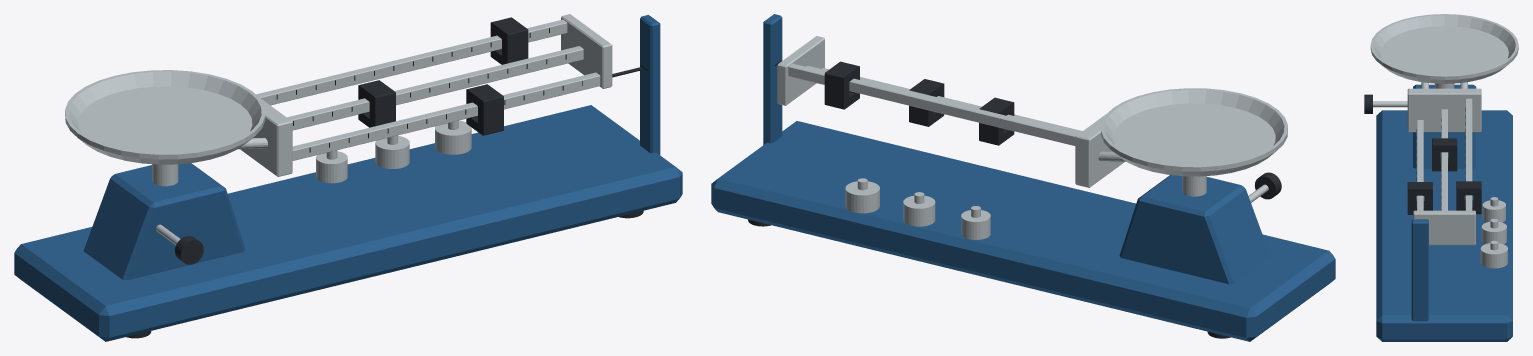
The model's file is full.fbx.
3 renders of one model, left to right at view 1: azimuth 30°, elevation 25°; view 2: azimuth 150°, elevation 25°; view 3: azimuth 270°, elevation 25°, orthographic. The views are drawn at different scales.
Visible parts, largest first — view 1: Long low cast base, Shallow open 152mm pan, Raised pan pedestal, Independent graduated beam 0, Independent graduated beam 2, Independent graduated beam 1, Fixed reference upright, Beam end tie, Common beam root, Sliding rider 0, Sliding rider 2, Sliding rider 1 (+5 smaller); view 2: Long low cast base, Shallow open 152mm pan, Raised pan pedestal, Independent graduated beam 2, Fixed reference upright, Common beam root, Beam end tie, Sliding rider 2, Sliding rider 1, Stored auxiliary weight 2, Sliding rider 0, Stored auxiliary weight 1 (+4 smaller); view 3: Long low cast base, Shallow open 152mm pan, Common beam root, Beam end tie, Fixed reference upright, Raised pan pedestal, Independent graduated beam 2, Sliding rider 1, Sliding rider 2, Sliding rider 0, Independent graduated beam 1, Stored auxiliary weight 2 (+5 smaller).
Boxes of the visible parts, x1,y1,x2,y2 form: Long low cast base: (14,105,682,341); Shallow open 152mm pan: (65,70,265,164); Raised pan pedestal: (83,163,245,280); Independent graduated beam 0: (292,72,600,160); Independent graduated beam 2: (256,19,567,105); Independent graduated beam 1: (287,46,583,130); Fixed reference upright: (640,15,660,154); Beam end tie: (561,14,612,88); Common beam root: (240,97,292,176); Sliding rider 0: (466,84,503,135); Sliding rider 2: (490,17,528,64); Sliding rider 1: (358,80,395,127); Long low cast base: (711,121,1335,341); Shallow open 152mm pan: (1101,88,1287,176); Raised pan pedestal: (1119,175,1270,284); Independent graduated beam 2: (788,63,1078,145); Fixed reference upright: (763,14,782,144); Common beam root: (1075,113,1124,187); Beam end tie: (777,36,824,105); Sliding rider 2: (824,61,859,109); Sliding rider 1: (979,97,1014,145); Stored auxiliary weight 2: (845,181,879,213); Sliding rider 0: (909,79,944,126); Stored auxiliary weight 1: (903,195,935,226); Long low cast base: (1376,110,1512,341); Shallow open 152mm pan: (1370,14,1518,83); Common beam root: (1407,88,1481,132); Beam end tie: (1413,210,1475,245); Fixed reference upright: (1411,219,1428,321); Raised pan pedestal: (1413,84,1476,168); Independent graduated beam 2: (1465,98,1472,210); Sliding rider 1: (1432,138,1457,171); Sliding rider 2: (1456,181,1481,214); Sliding rider 0: (1407,182,1432,214); Independent graduated beam 1: (1441,109,1447,210); Stored auxiliary weight 2: (1480,243,1507,268).
Bounding box in the file's own units: 51 × 15 × 15.85.
